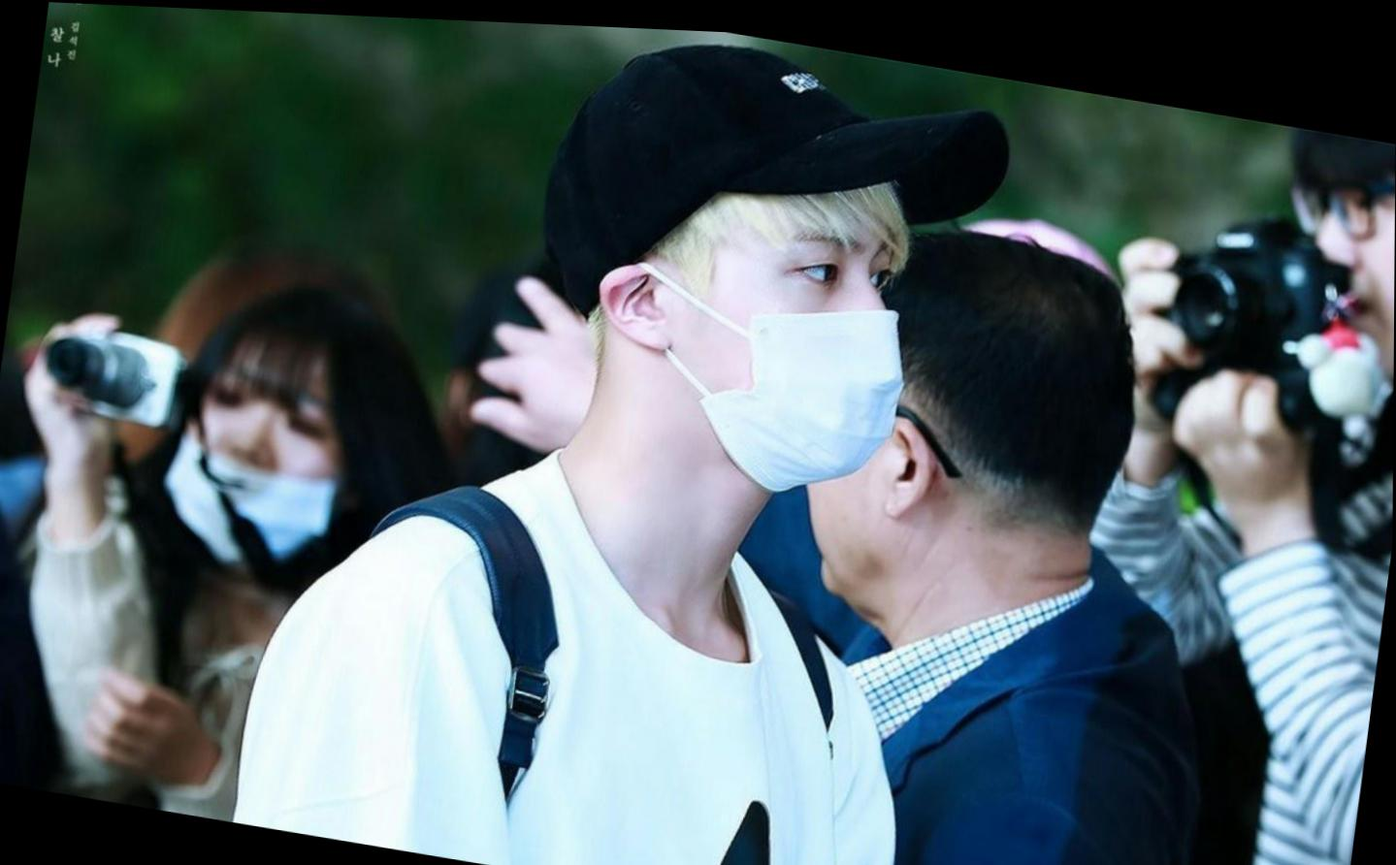NONE: (1287, 158, 1395, 364)
OK: (612, 172, 923, 491)
WRONG: (165, 369, 349, 568)
